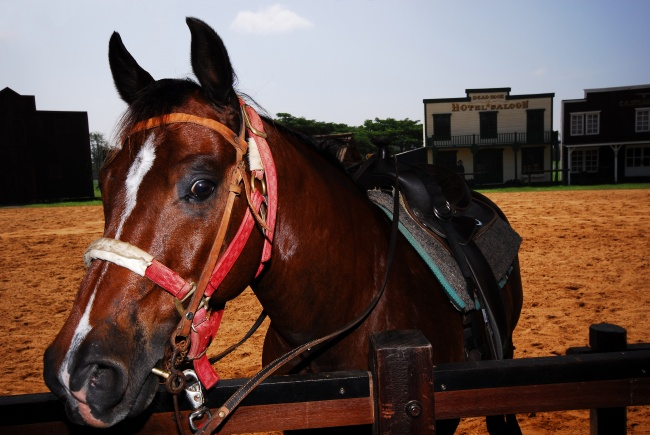horse: (39, 14, 531, 435)
